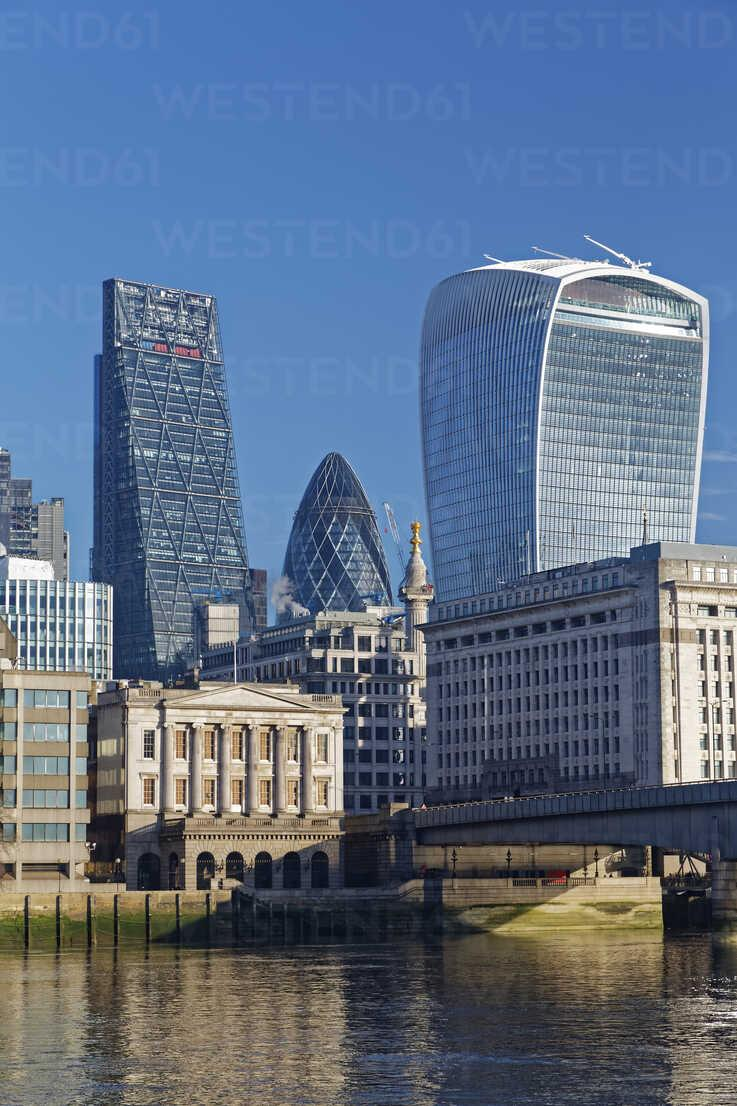Walkie talkie: (410, 240, 714, 555)
